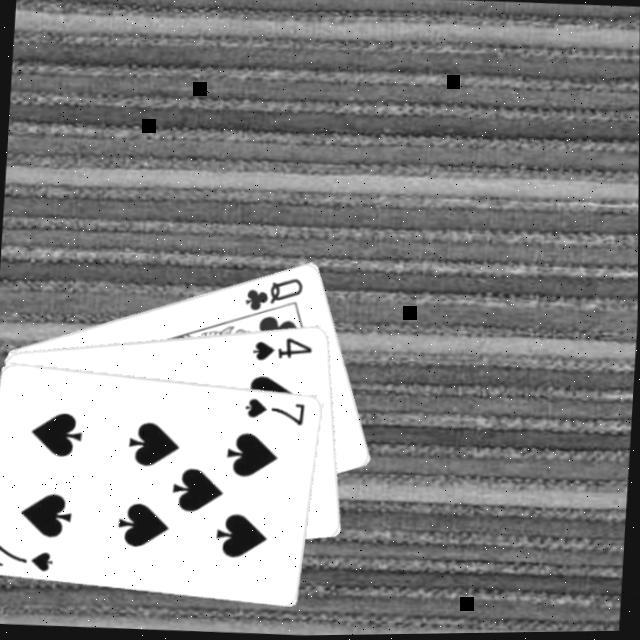4S: (251, 334, 319, 369)
7S: (244, 396, 312, 432), (0, 541, 60, 577)
QC: (243, 275, 310, 319)
